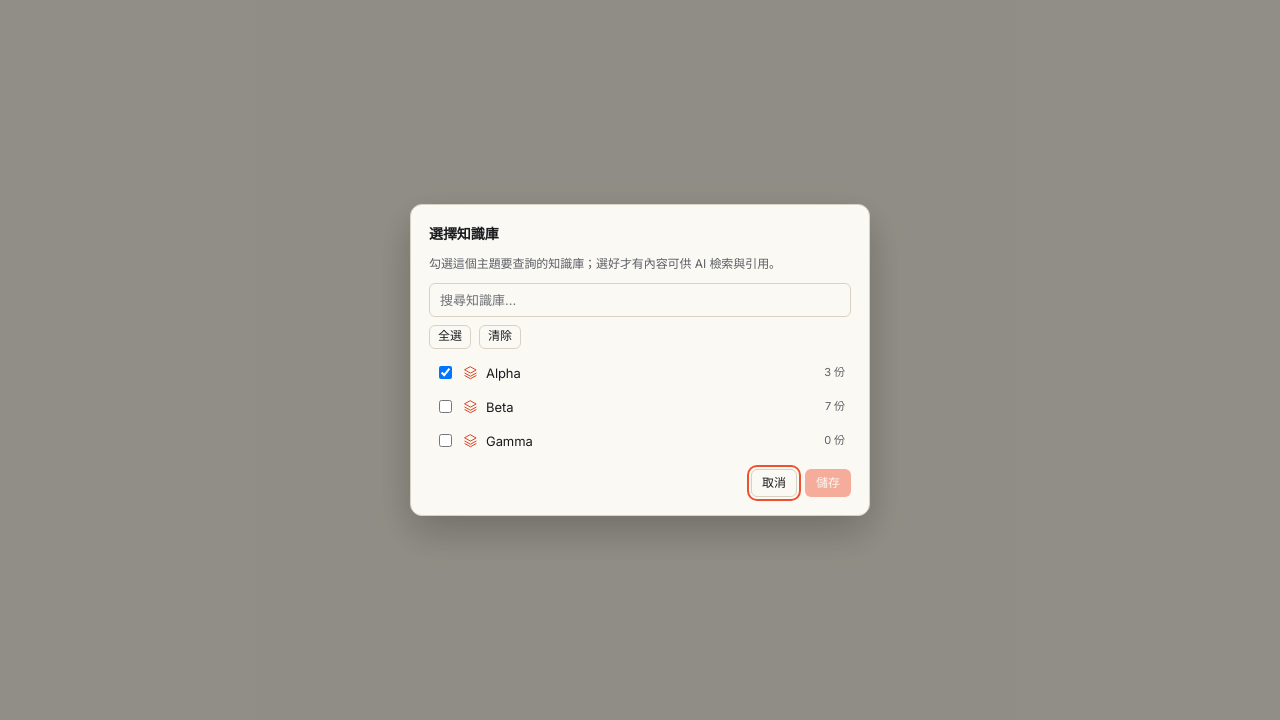
it: CollectionsPickerModal › save is disabled until something changes (no-op guard)
Expected: the text "Alpha 3 份" is shown, [439,365,845,381]
Expected: the button with test id "collections-save" is disabled, [805,469,851,497]
Step 1. Click the checkbox with test id "collection-check-b" → (446, 407), box [439,400,452,413]
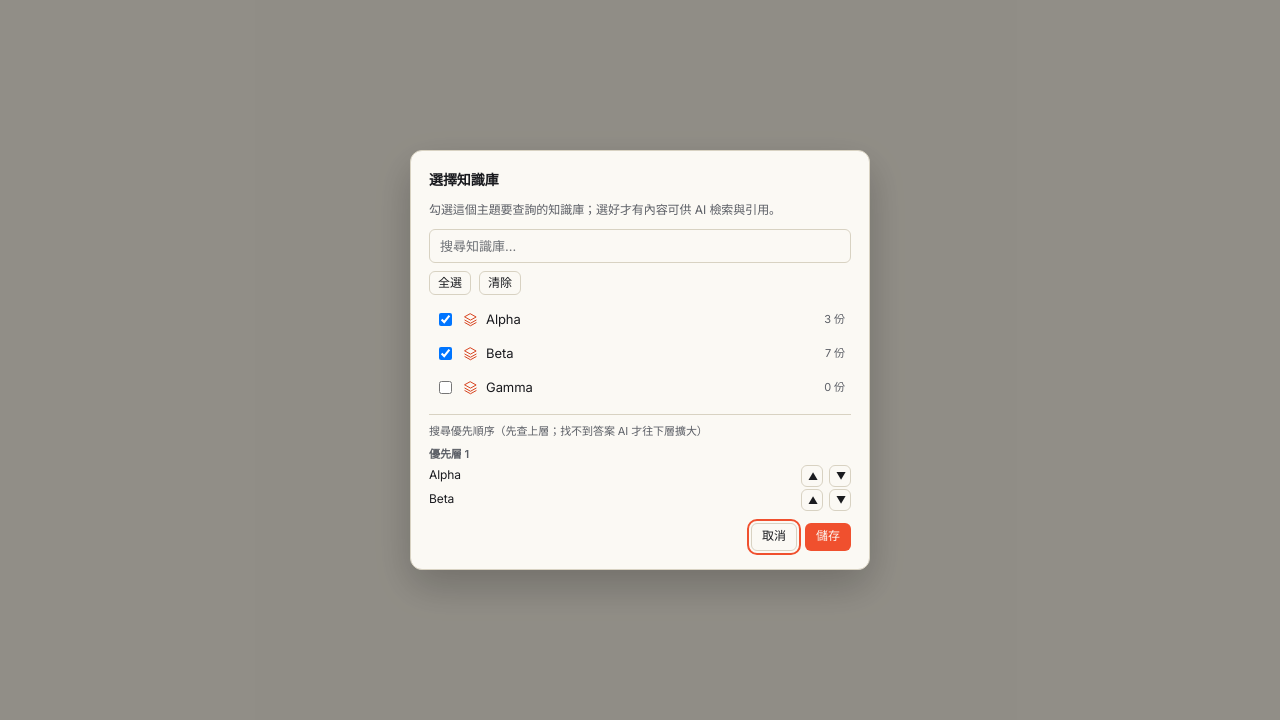
Expected: the button with test id "collections-save" is enabled, [805,523,851,551]
